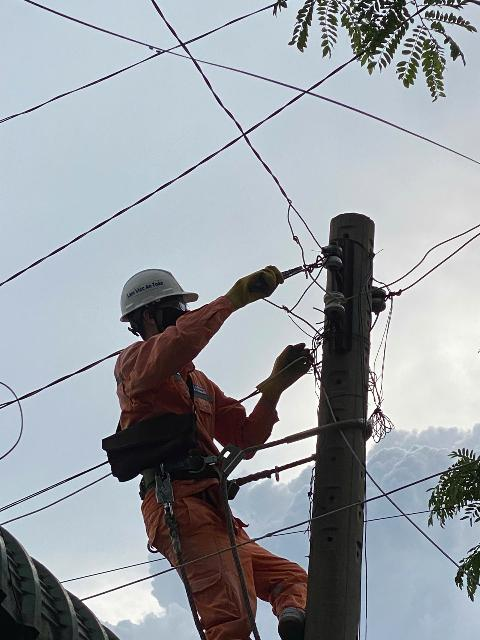gloves: (253, 330, 323, 398), (221, 268, 297, 308)
harness: (134, 433, 305, 495)
helmet: (101, 256, 213, 333)
shoes: (254, 601, 316, 640)
